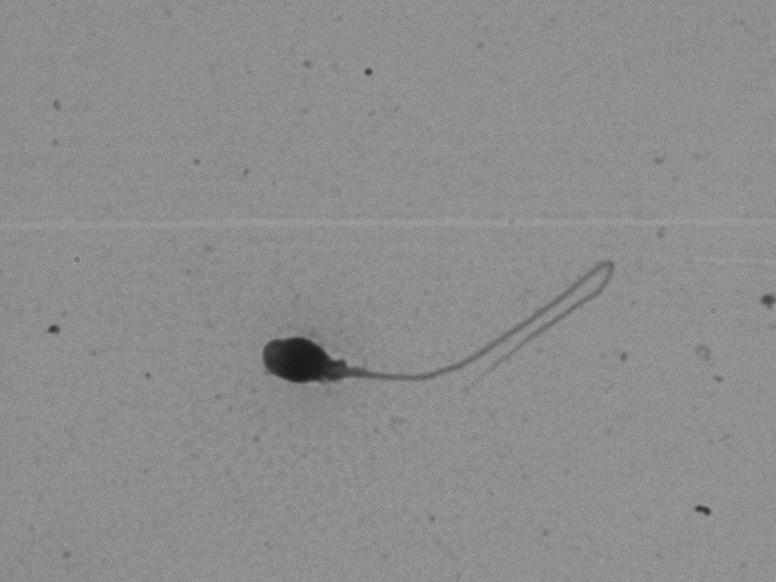Abnormal: (206, 247, 665, 430)
